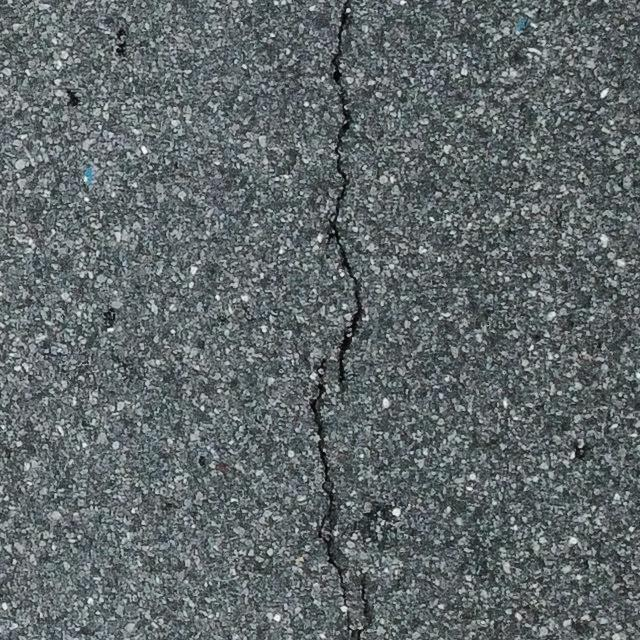LongitudinalCrack: (307, 5, 368, 633)
